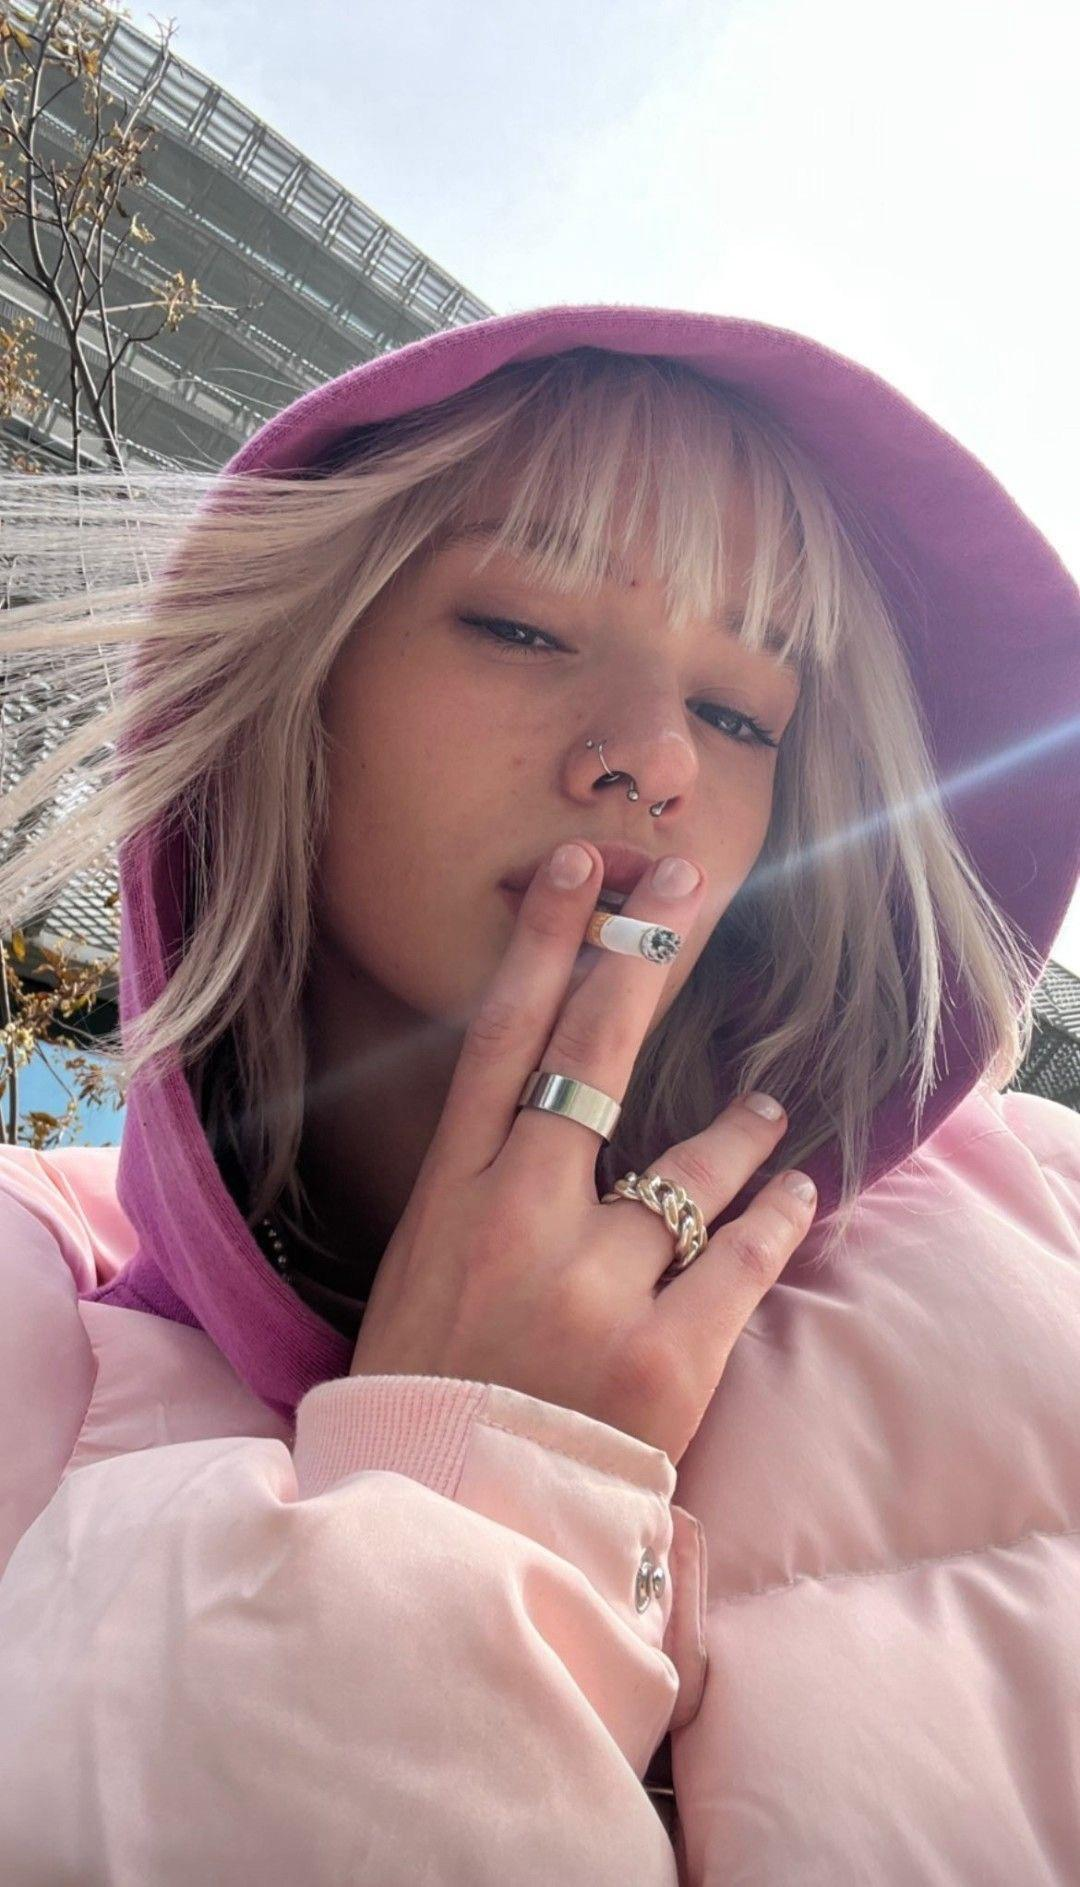cigarette: (583, 910, 681, 964)
